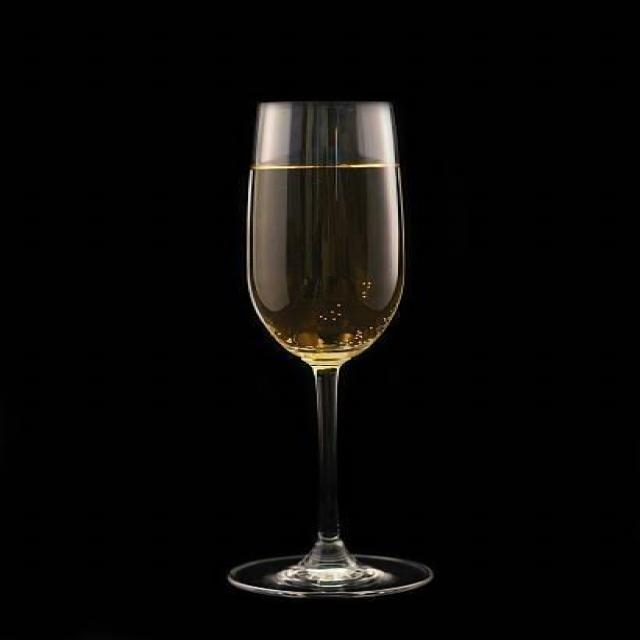glass-wine: (223, 96, 432, 600)
